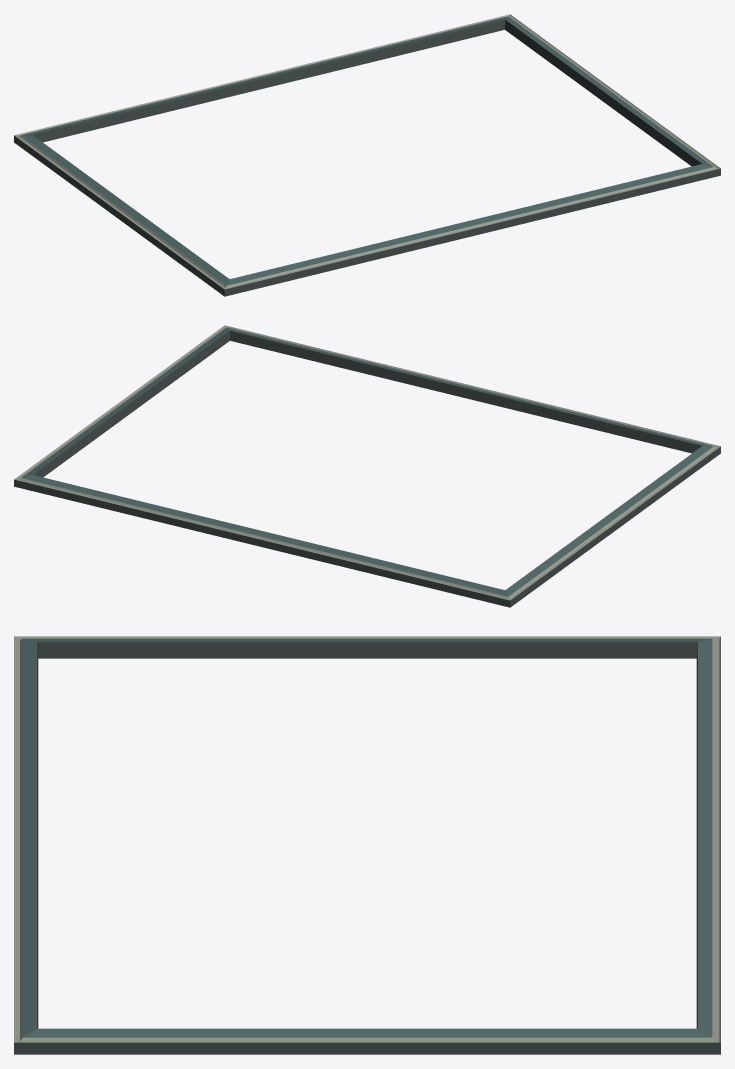
Rendered from v-a08-roof-eaves.glb.
3 views of the same model, one above another, from view 1: azimuth 30°, elevation 25°; view 2: azimuth 150°, elevation 25°; view 3: azimuth 270°, elevation 25° (orthographic). The views are drawn at different scales.
Visible parts, largest first — view 1: V_A08_RoofEaves; view 2: V_A08_RoofEaves; view 3: V_A08_RoofEaves.
Boxes of the visible parts, bbox=[...] form: V_A08_RoofEaves: bbox=[14, 14, 720, 296]; V_A08_RoofEaves: bbox=[14, 325, 720, 607]; V_A08_RoofEaves: bbox=[14, 636, 720, 1054].
Bounding box in the file's own units: 18.9 × 0.35 × 13.9.
